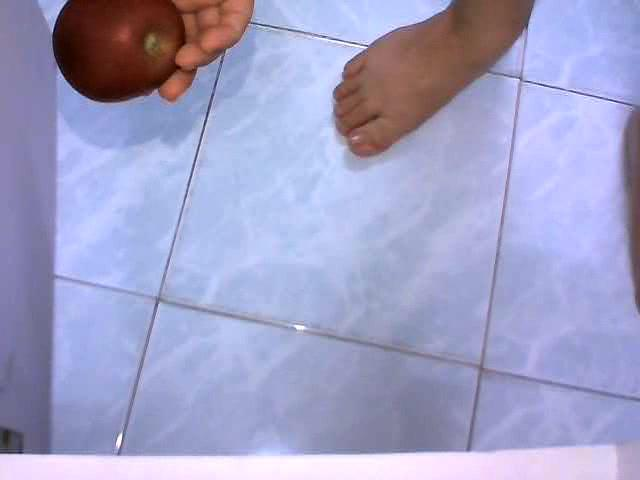apple: (51, 0, 186, 103)
